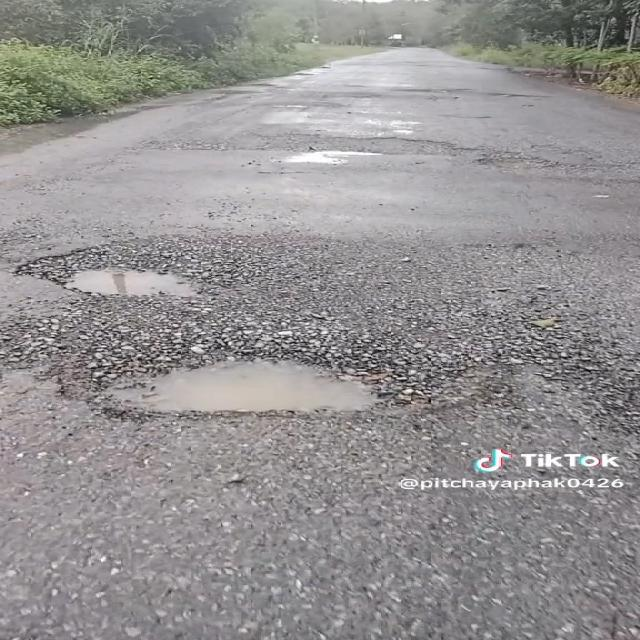Poth-hole: (281, 130, 403, 207)
